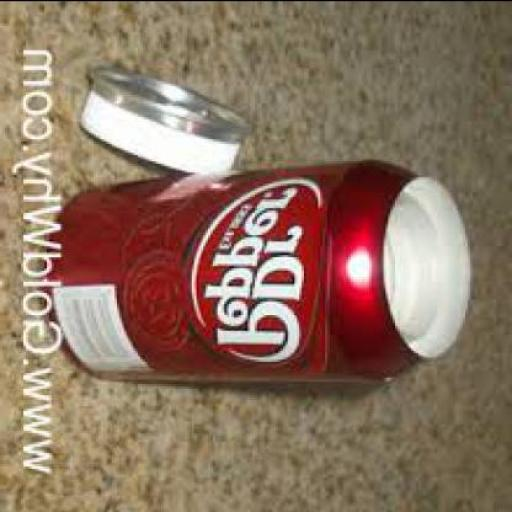metal: (42, 160, 472, 383), (89, 70, 257, 144)
